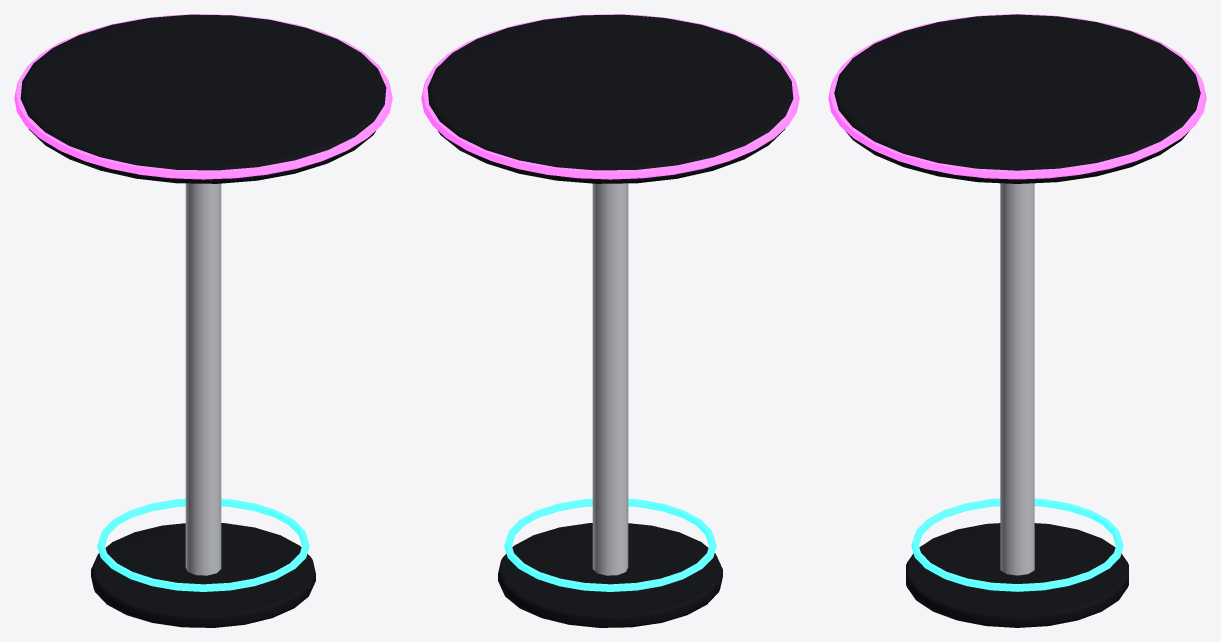
File: cocktail_table_high.glb
3 renders of one model, left to right at view 1: azimuth 30°, elevation 25°; view 2: azimuth 150°, elevation 25°; view 3: azimuth 270°, elevation 25°, orthographic.
Parts seen in each view (by area): view 1: cocktail_table_high; view 2: cocktail_table_high; view 3: cocktail_table_high.
Boxes of the visible parts, box(x1,y1,x2,y2) form: cocktail_table_high: box(14, 14, 392, 627); cocktail_table_high: box(421, 14, 799, 627); cocktail_table_high: box(828, 14, 1206, 627).
Bounding box in the file's own units: 0.739 × 1.06 × 0.739.
